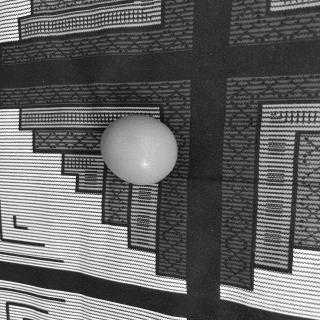Telur: (96, 114, 181, 188)
